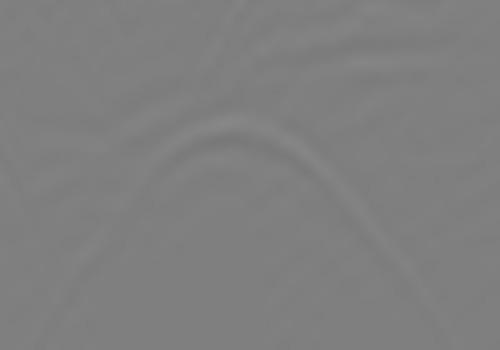hyperbola: (71, 112, 427, 326)
